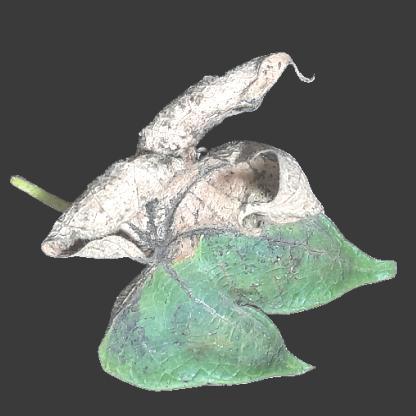sooty: (106, 157, 294, 223), (171, 237, 331, 304), (112, 309, 251, 374)
